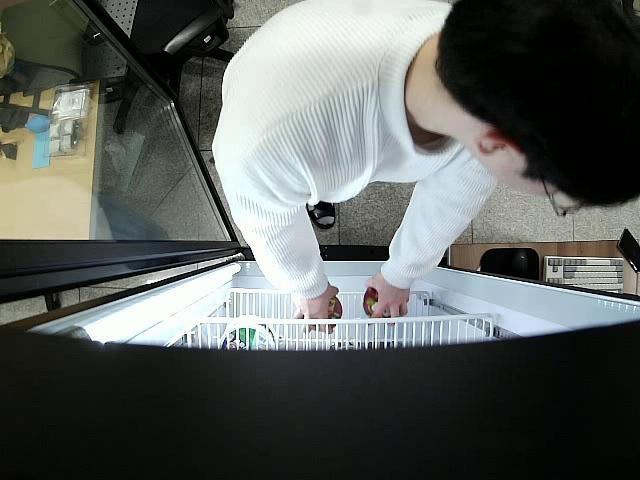06_nuguri_S: (313, 295, 342, 332), (363, 290, 404, 316)
